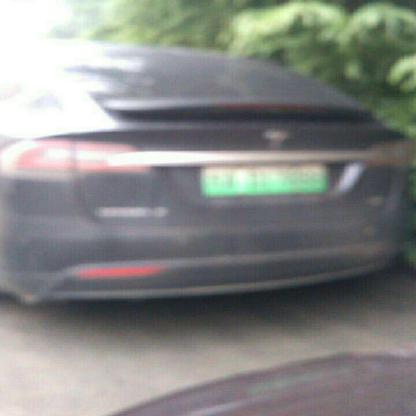lp: (200, 166, 328, 198)
